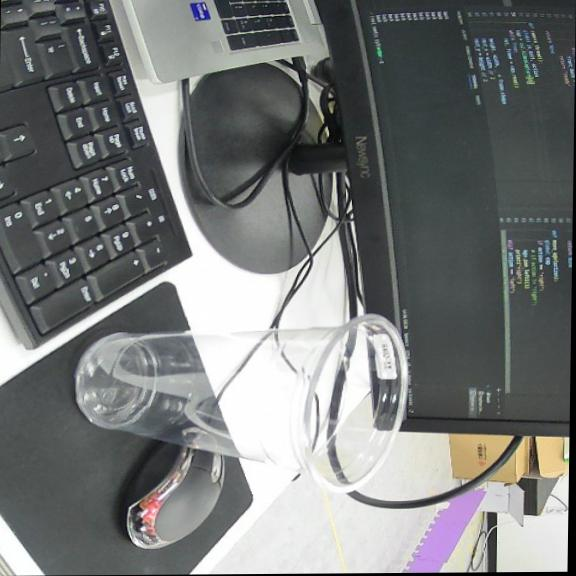Plastik: (74, 314, 406, 492)
